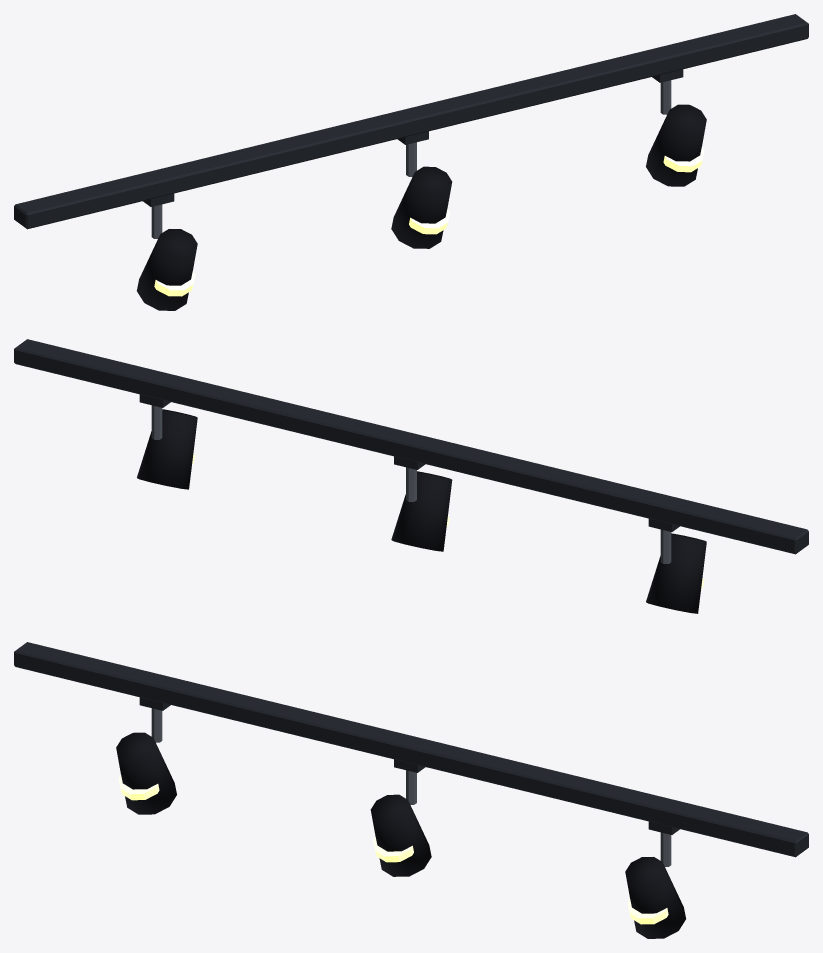
File: spotlight_track.glb
3 views of the same model, one above another, from view 1: azimuth 30°, elevation 25°; view 2: azimuth 150°, elevation 25°; view 3: azimuth 330°, elevation 25° (orthographic).
Visible parts, largest first — view 1: spotlight_track; view 2: spotlight_track; view 3: spotlight_track.
Boxes of the visible parts, left/top/right/bottom form: spotlight_track: left=14, top=14, right=808, bottom=310; spotlight_track: left=14, top=339, right=808, bottom=613; spotlight_track: left=14, top=642, right=808, bottom=938.
Bounding box in the file's own units: 2 × 0.2979 × 0.1646.
